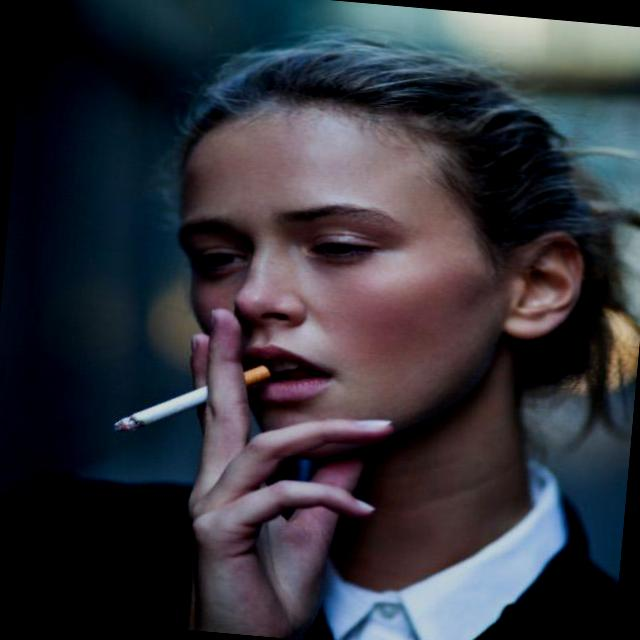cigarette: (72, 334, 298, 469)
